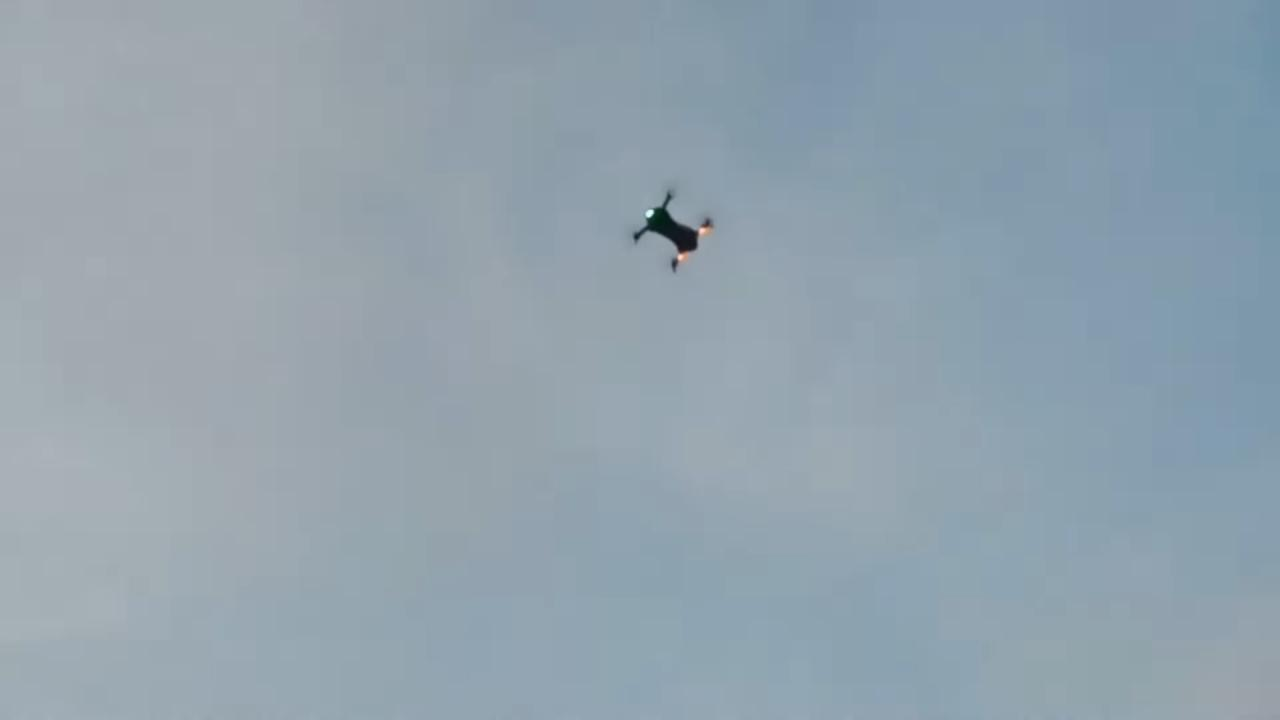Drone: (616, 171, 731, 282)
